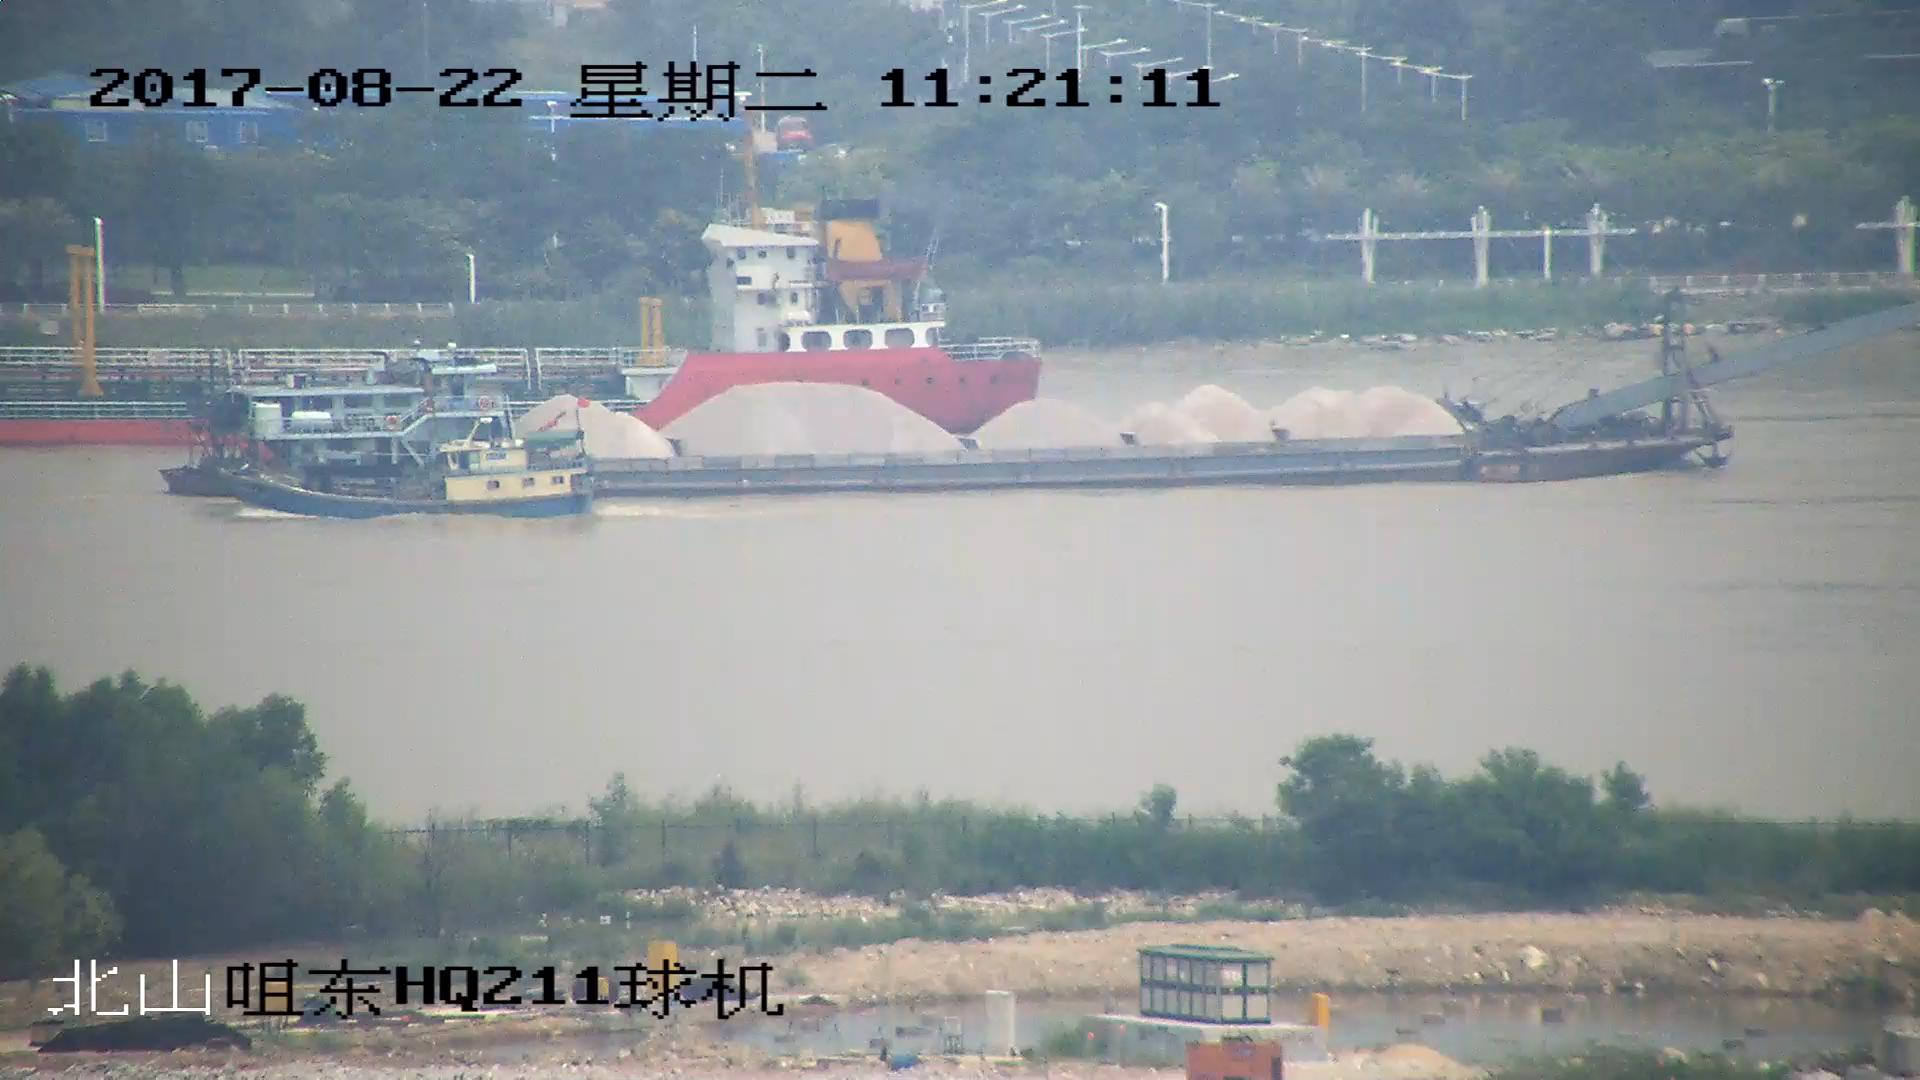fishing boat: (227, 418, 597, 520)
general cargo ship: (1, 123, 1048, 444)
ore carrier: (167, 297, 1920, 495)
